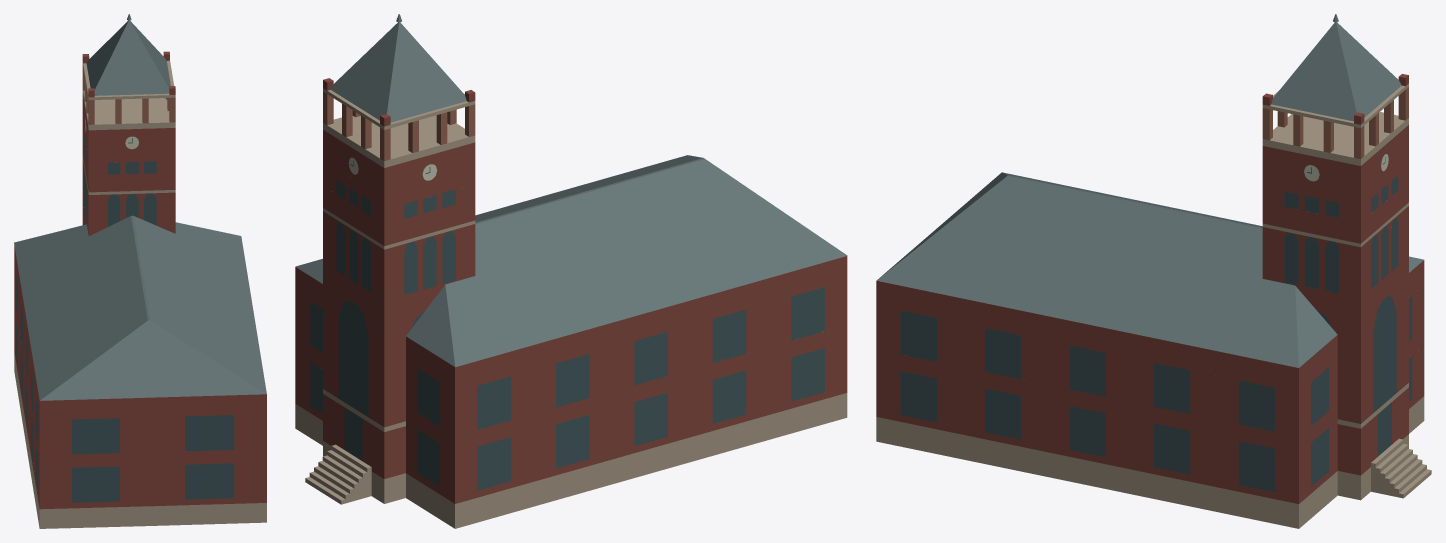
File: red-brick-courthouse-rockville-far.glb
The picture shows the model from 3 angles, left to right: view 1: azimuth 30°, elevation 25°; view 2: azimuth 150°, elevation 25°; view 3: azimuth 270°, elevation 25°; orthographic projection. The views are drawn at different scales.
Parts seen in each view (by area): view 1: red-brick-courthouse-rockville-0-slate, red-brick-courthouse-rockville-0-brick, red-brick-courthouse-rockville-0-glass, red-brick-courthouse-rockville-0-stone, red-brick-courthouse-rockville-0-column; view 2: red-brick-courthouse-rockville-0-brick, red-brick-courthouse-rockville-0-slate, red-brick-courthouse-rockville-0-glass, red-brick-courthouse-rockville-0-stone, red-brick-courthouse-rockville-0-column; view 3: red-brick-courthouse-rockville-0-brick, red-brick-courthouse-rockville-0-slate, red-brick-courthouse-rockville-0-glass, red-brick-courthouse-rockville-0-stone, red-brick-courthouse-rockville-0-column.
Boxes of the visible parts, x1,y1,x2,y2 form: red-brick-courthouse-rockville-0-slate: (14, 14, 266, 400); red-brick-courthouse-rockville-0-brick: (14, 51, 266, 509); red-brick-courthouse-rockville-0-glass: (15, 125, 234, 502); red-brick-courthouse-rockville-0-stone: (14, 60, 266, 528); red-brick-courthouse-rockville-0-column: (82, 64, 175, 124); red-brick-courthouse-rockville-0-brick: (295, 78, 847, 503); red-brick-courthouse-rockville-0-slate: (295, 14, 847, 367); red-brick-courthouse-rockville-0-glass: (310, 160, 824, 490); red-brick-courthouse-rockville-0-stone: (295, 88, 847, 528); red-brick-courthouse-rockville-0-column: (323, 92, 475, 160); red-brick-courthouse-rockville-0-brick: (876, 74, 1424, 503); red-brick-courthouse-rockville-0-slate: (877, 14, 1423, 367); red-brick-courthouse-rockville-0-glass: (900, 157, 1412, 492); red-brick-courthouse-rockville-0-stone: (876, 83, 1431, 528); red-brick-courthouse-rockville-0-column: (1262, 87, 1408, 159).
Size of the model in its own units: 30.54 by 33.1 by 36.59.
